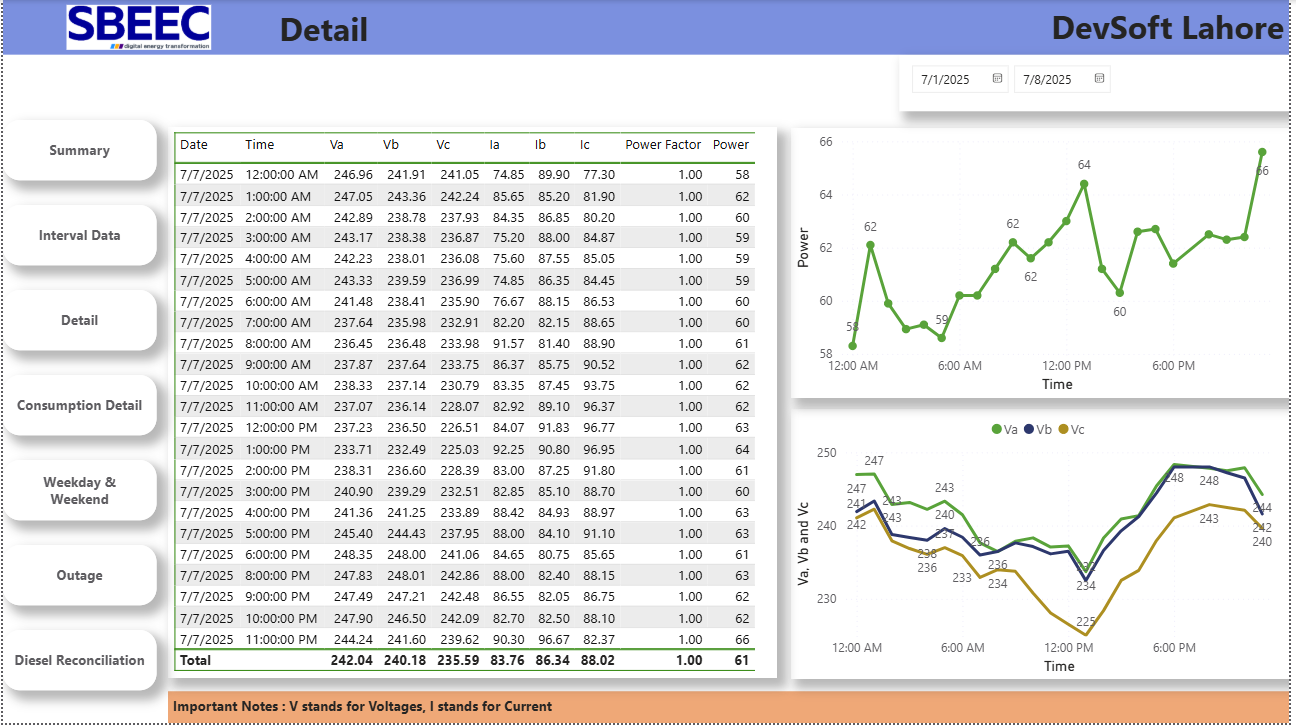

What the dashboard file says about the page in this screenshot:
{"tool":"powerbi","page":{"name":"DevSoft Lahore : Detail","canvas":[1280,720],"ordinal":2},"visuals":[{"type":"textbox","box":[0,0,1280,54.3],"z":0},{"type":"image","box":[0,0,269.9,54.3],"z":1000},{"type":"textbox","box":[269.9,1.4,346.4,52.9],"z":2000},{"type":"slicer","fields":{"Values":["Calendar.Date"]},"box":[891.8,54.3,388.2,55.7],"z":3000},{"type":"lineChart","fields":{"Category":["Transworld*_fact.Time"],"Y":["Key Measure.Power"]},"box":[783.3,126.6,496.7,268.5],"z":4000},{"type":"textbox","box":[164.2,687.3,1115.8,33.4],"z":5000},{"type":"lineChart","fields":{"Category":["Transworld*_fact.Time"],"Y":["Key Measure.Va","Key Measure.Vb","Key Measure.Vc"]},"box":[783.3,406.3,496.7,268.5],"z":6000},{"type":"tableEx","fields":{"Values":["Transworld*_fact.Date","Transworld*_fact.Time","Key Measure.LD Va","Key Measure.Vb","Key Measure.Vc","Key Measure.Ia","Key Measure.Ib","Key Measure.Ic","Key Measure.Power Factor","Key Measure.Power"]},"box":[164.2,126.6,605.2,548.2],"z":7000},{"type":"actionButton","box":[0,119.7,153,59.8],"z":8000},{"type":"actionButton","box":[0,204.3,153,59.8],"z":9000},{"type":"actionButton","box":[0,288.9,153,59.8],"z":10000},{"type":"actionButton","box":[0,373.6,153,59.8],"z":11000},{"type":"actionButton","box":[0,458.2,153,59.8],"z":12000},{"type":"actionButton","box":[0,542.8,153,59.8],"z":13000},{"type":"actionButton","box":[0,627.5,153,59.8],"z":14000}]}

Visuals, with their boxes in screenshot pixels (x1, y1, x2, y2), scaled from the page's 1280x720 canvas onto the 1296x726 screenshot:
textbox: rect(0, 0, 1295, 55)
image: rect(0, 0, 273, 55)
textbox: rect(273, 1, 624, 55)
slicer - Calendar.Date: rect(903, 55, 1295, 111)
lineChart - Transworld*_fact.Time x Key Measure.Power: rect(793, 128, 1295, 398)
textbox: rect(166, 693, 1295, 725)
lineChart - Transworld*_fact.Time x Key Measure.Va: rect(793, 410, 1295, 680)
tableEx - Transworld*_fact.Date x Transworld*_fact.Time: rect(166, 128, 779, 680)
actionButton: rect(0, 121, 155, 181)
actionButton: rect(0, 206, 155, 266)
actionButton: rect(0, 291, 155, 352)
actionButton: rect(0, 377, 155, 437)
actionButton: rect(0, 462, 155, 522)
actionButton: rect(0, 547, 155, 608)
actionButton: rect(0, 633, 155, 693)
